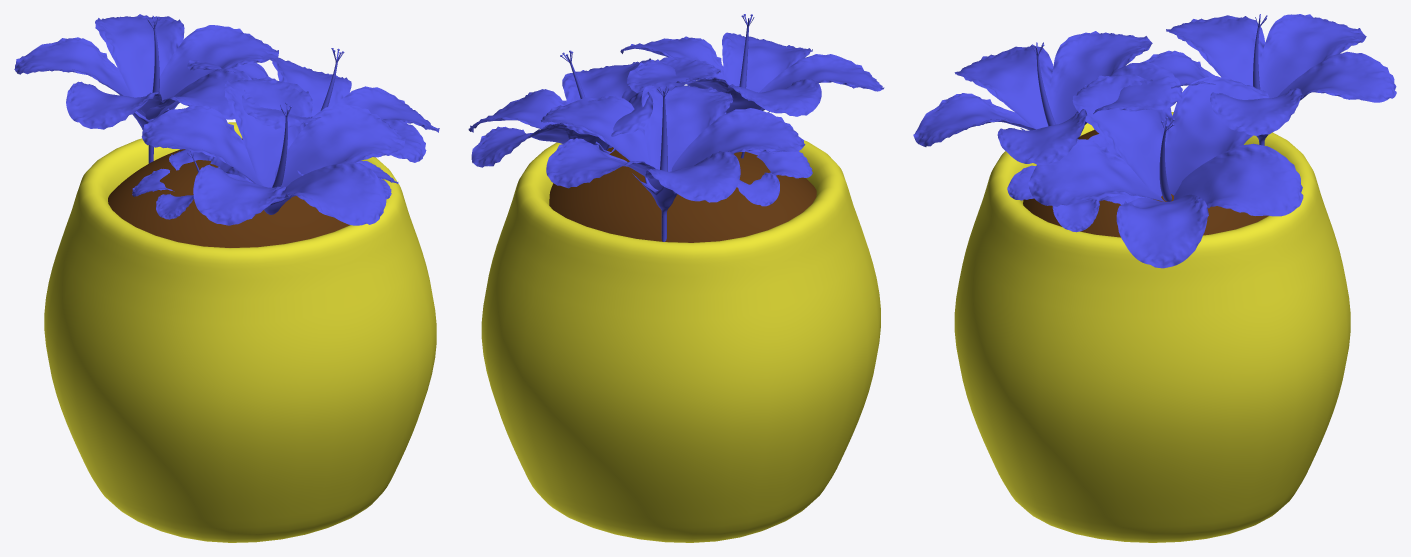
Rendered from mace invierno 1.fbx.
3 views of the same model, side by side, from view 1: azimuth 30°, elevation 25°; view 2: azimuth 150°, elevation 25°; view 3: azimuth 270°, elevation 25° (orthographic). The views are drawn at different scales.
Visible parts, largest first — view 1: Cube.083; view 2: Cube.083; view 3: Cube.083.
Part boxes in pixels (box(x1,y1,x2,y2)): Cube.083: box(14, 14, 439, 542); Cube.083: box(468, 14, 884, 542); Cube.083: box(913, 14, 1396, 542).
Bounding box in the file's own units: 34.41 × 40.64 × 38.38.
